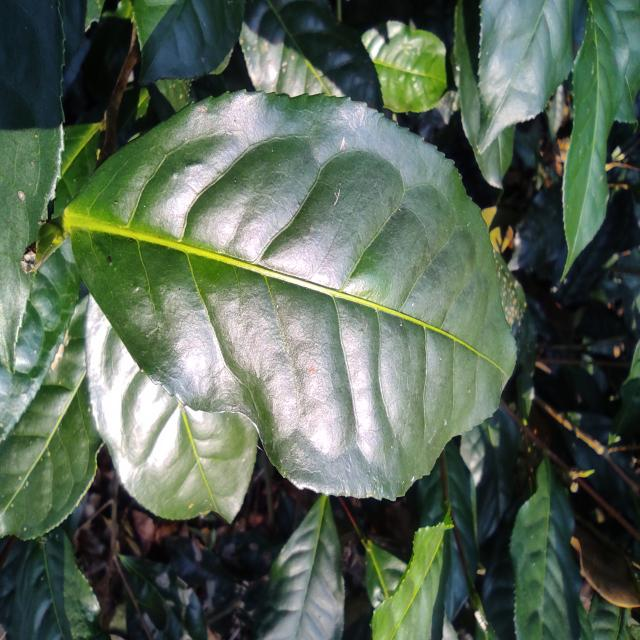Category D(7+ days, Not for Tea): (53, 76, 528, 511)
